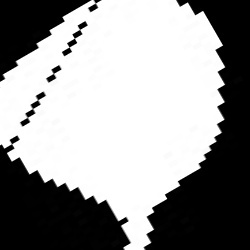spot: (1, 1, 225, 249)
